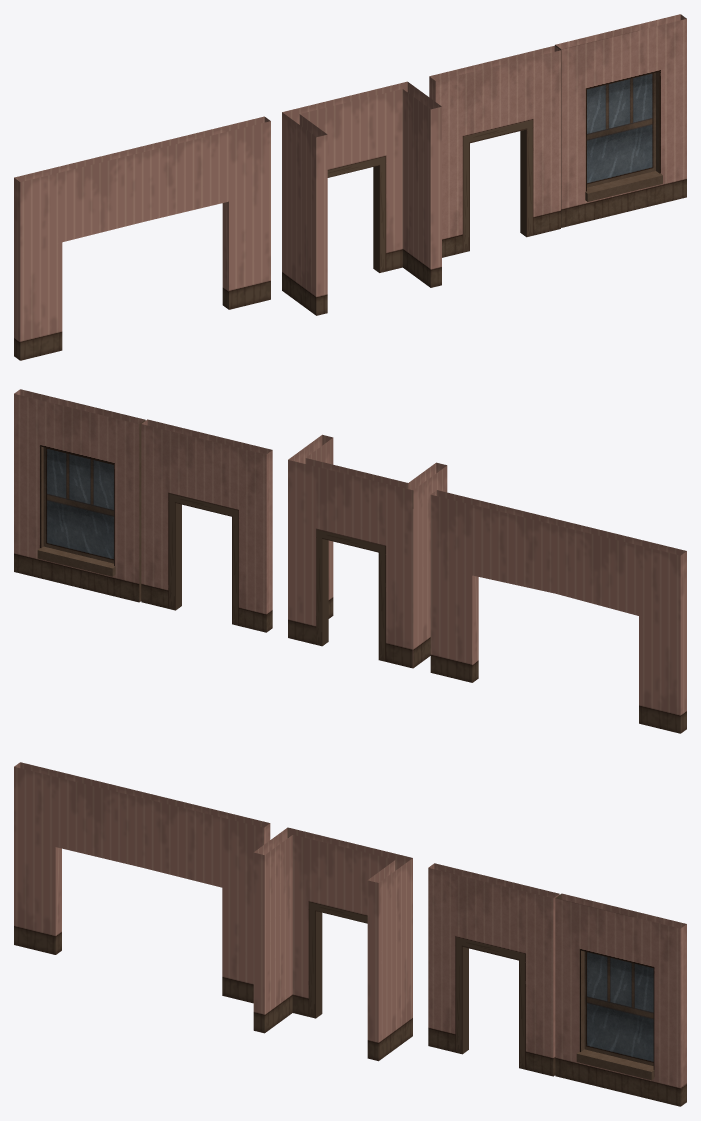
The model's file is Walls.fbx.
3 renders of one model, top to bottom at view 1: azimuth 30°, elevation 25°; view 2: azimuth 150°, elevation 25°; view 3: azimuth 330°, elevation 25°, orthographic.
Visible parts, largest first — view 1: Wide Doorway, Apartment Entrance, Window, Doorway; view 2: Wide Doorway, Window, Apartment Entrance, Doorway; view 3: Wide Doorway, Apartment Entrance, Window, Doorway.
Boxes of the visible parts, x1=… form: Wide Doorway: x1=14, y1=116, x2=270, y2=360; Apartment Entrance: x1=282, y1=81, x2=441, y2=315; Window: x1=555, y1=14, x2=686, y2=227; Doorway: x1=429, y1=45, x2=560, y2=257; Wide Doorway: x1=430, y1=490, x2=686, y2=733; Window: x1=14, y1=389, x2=145, y2=602; Apartment Entrance: x1=288, y1=434, x2=447, y2=668; Doorway: x1=141, y1=419, x2=272, y2=632; Wide Doorway: x1=14, y1=762, x2=270, y2=1003; Apartment Entrance: x1=253, y1=827, x2=412, y2=1061; Window: x1=555, y1=893, x2=686, y2=1106; Doorway: x1=428, y1=863, x2=559, y2=1076.
Bounding box in the file's own units: 1994 × 196 × 510.
Materials: 4 (4 with a texture image).
